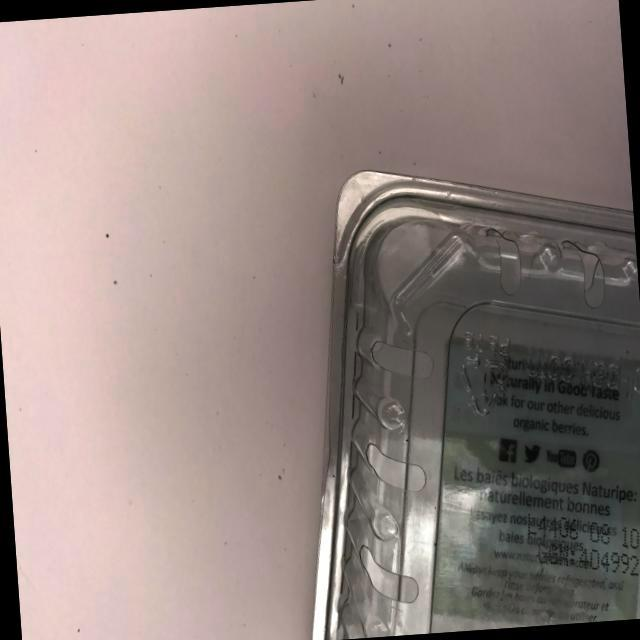plastic: (264, 115, 640, 640)
